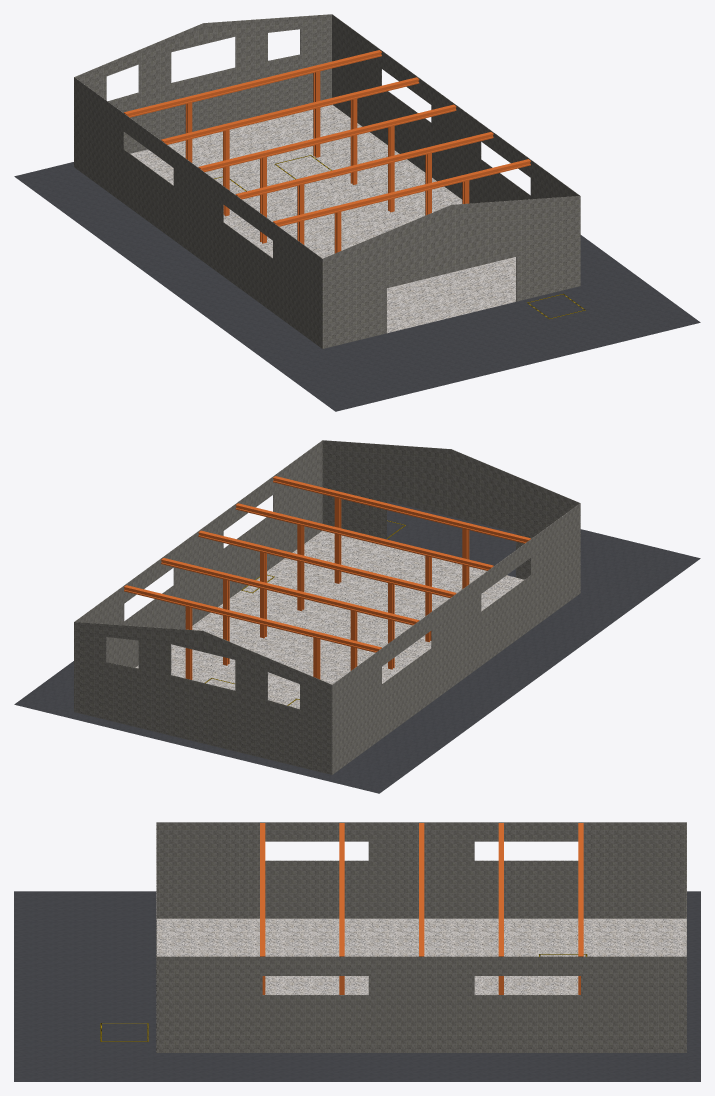
Rendered from LaserMappingWarehouse.glb.
The picture shows the model from 3 angles, top to bottom: view 1: azimuth 30°, elevation 25°; view 2: azimuth 150°, elevation 25°; view 3: azimuth 270°, elevation 25°; orthographic projection. The views are drawn at different scales.
Parts seen in each view (by area): view 1: ground_out, ground, Wall1, Wall4, Wall3, celling_collum, Wall2; view 2: ground_out, Wall3, ground, Wall1, Wall4, celling_collum, Wall2; view 3: Wall2, Wall1, ground_out, ground, celling_collum.
Boxes of the visible parts, box(x1,y1,x2,y2) form: ground_out: box(14, 162, 700, 411); ground: box(130, 104, 515, 333); Wall1: box(74, 77, 322, 348); Wall4: box(322, 196, 580, 348); Wall3: box(74, 14, 331, 166); celling_collum: box(124, 50, 530, 253); Wall2: box(332, 14, 579, 203); ground_out: box(14, 501, 700, 793); Wall3: box(74, 622, 332, 774); ground: box(135, 530, 524, 708); Wall1: box(332, 503, 580, 774); Wall4: box(322, 440, 580, 592); celling_collum: box(124, 476, 530, 679); Wall2: box(74, 440, 322, 685); Wall2: box(157, 956, 686, 1052); Wall1: box(157, 822, 686, 918); ground_out: box(14, 891, 700, 1081); ground: box(157, 918, 686, 994); celling_collum: box(260, 823, 583, 994).
Size of the model in its own units: 79.53 by 23.6 by 121.
Materials: 8 (6 with a texture image).
